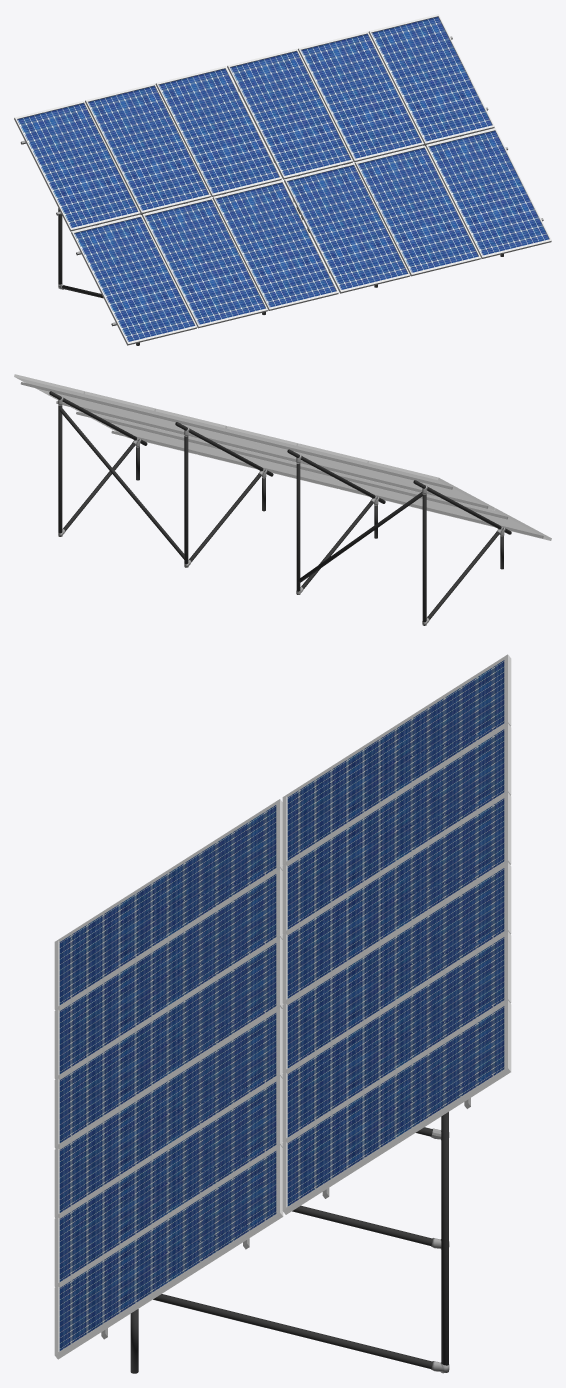
Rendered from solar.dae.
3 renders of one model, top to bottom at view 1: azimuth 30°, elevation 25°; view 2: azimuth 150°, elevation 25°; view 3: azimuth 270°, elevation 25°, orthographic. The views are drawn at different scales.
Parts seen in each view (by area): view 1: pv.006, pv.011, pv, pv.008, pv.010, pv.004, pv.005, pv.002, pv.001, pv.009, pv.003, pv.007; view 2: Cube.003, Cube.002, Cube.001, Cube, pv.011, pv.010, pv, pv.001, pv.002, pv.009, pv.006, pv.005 (+18 smaller); view 3: pv.002, pv.003, pv.009, pv.008, pv.011, pv, pv.010, pv.001, pv.007, pv.006, pv.004, pv.005 (+3 smaller).
Part boxes in pixels (left/top/right/bottom): pv.006: left=71, top=214, right=197, bottom=345; pv.011: left=14, top=100, right=140, bottom=231; pv: left=227, top=48, right=353, bottom=179; pv.008: left=212, top=180, right=338, bottom=310; pv.010: left=85, top=83, right=210, bottom=214; pv.004: left=354, top=145, right=480, bottom=276; pv.005: left=284, top=162, right=410, bottom=293; pv.002: left=368, top=14, right=494, bottom=144; pv.001: left=298, top=31, right=423, bottom=162; pv.009: left=155, top=66, right=281, bottom=196; pv.003: left=425, top=128, right=551, bottom=258; pv.007: left=142, top=197, right=267, bottom=328; Cube.003: left=20, top=382, right=452, bottom=489; Cube.002: left=111, top=430, right=543, bottom=538; Cube.001: left=76, top=412, right=508, bottom=519; Cube: left=56, top=401, right=488, bottom=508; pv.011: left=368, top=460, right=494, bottom=510; pv.010: left=297, top=443, right=414, bottom=488; pv: left=155, top=408, right=272, bottom=453; pv.001: left=85, top=391, right=190, bottom=433; pv.002: left=14, top=374, right=130, bottom=418; pv.009: left=227, top=426, right=343, bottom=470; pv.006: left=426, top=494, right=551, bottom=540; pv.005: left=216, top=442, right=337, bottom=488; pv.002: left=282, top=1000, right=511, bottom=1214; pv.003: left=54, top=1145, right=283, bottom=1359; pv.009: left=282, top=792, right=511, bottom=1003; pv.008: left=54, top=937, right=283, bottom=1148; pv.011: left=282, top=654, right=511, bottom=865; pv: left=282, top=862, right=511, bottom=1073; pv.010: left=282, top=723, right=511, bottom=934; pv.001: left=282, top=931, right=511, bottom=1142; pv.007: left=54, top=868, right=282, bottom=1079; pv.006: left=54, top=799, right=282, bottom=1010; pv.004: left=54, top=1076, right=282, bottom=1286; pv.005: left=54, top=1007, right=282, bottom=1217.
Size of the model in its own units: 6.15 by 2.82 by 2.27.
31 materials, 12 textured.
